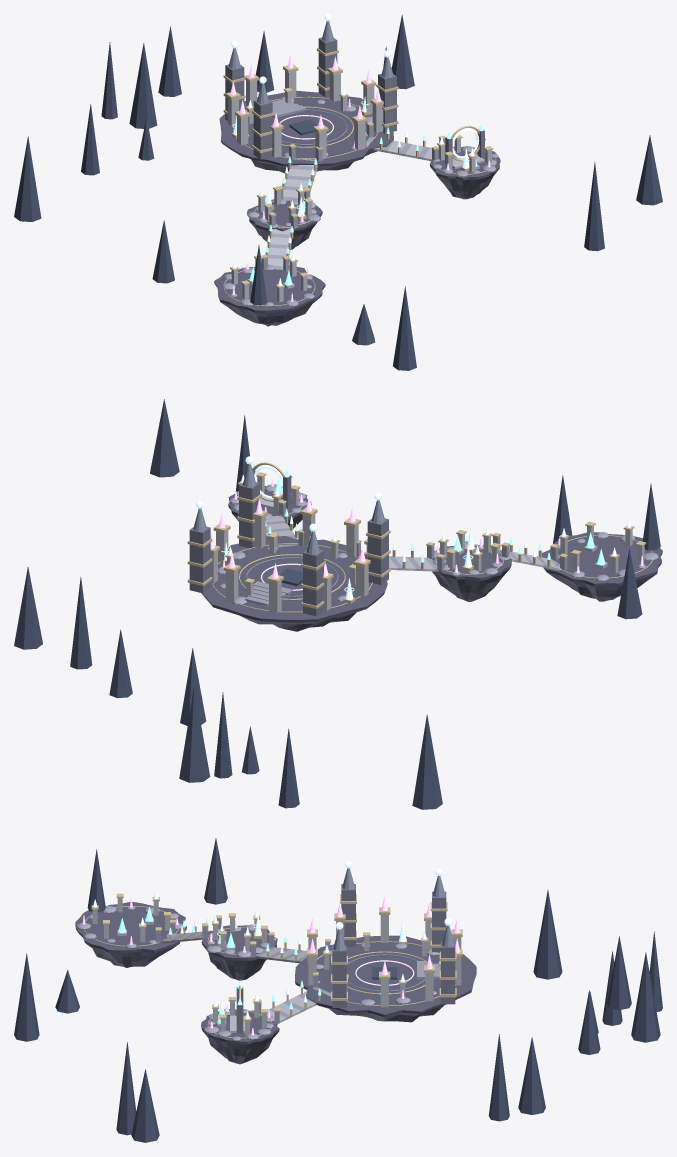
Rendered from StormCitadel_Enhanced_Yup_Mobile.glb.
The picture shows the model from 3 angles, top to bottom: view 1: azimuth 30°, elevation 25°; view 2: azimuth 150°, elevation 25°; view 3: azimuth 270°, elevation 25°; orthographic projection. The views are drawn at different scales.
Visible parts, largest first — view 1: WGA_Storm_StormCitadel_Enhanced_Yup_Mobile.glb_shadow, WGA_Storm_StormCitadel_Enhanced_Yup_Mobile.glb_basalt, WGA_Storm_StormCitadel_Enhanced_Yup_Mobile.glb_stone, WGA_Storm_StormCitadel_Enhanced_Yup_Mobile.glb_gold, WGA_Storm_StormCitadel_Enhanced_Yup_Mobile.glb_slate, WGA_Storm_StormCitadel_Enhanced_Yup_Mobile.glb_darkstone, WGA_Storm_StormCitadel_Enhanced_Yup_Mobile.glb_electric, WGA_Storm_StormCitadel_Enhanced_Yup_Mobile.glb_violet, WGA_Storm_StormCitadel_Enhanced_Yup_Mobile.glb_metal, WGA_Storm_StormCitadel_Enhanced_Yup_Mobile.glb_cyan; view 2: WGA_Storm_StormCitadel_Enhanced_Yup_Mobile.glb_shadow, WGA_Storm_StormCitadel_Enhanced_Yup_Mobile.glb_basalt, WGA_Storm_StormCitadel_Enhanced_Yup_Mobile.glb_stone, WGA_Storm_StormCitadel_Enhanced_Yup_Mobile.glb_darkstone, WGA_Storm_StormCitadel_Enhanced_Yup_Mobile.glb_gold, WGA_Storm_StormCitadel_Enhanced_Yup_Mobile.glb_slate, WGA_Storm_StormCitadel_Enhanced_Yup_Mobile.glb_electric, WGA_Storm_StormCitadel_Enhanced_Yup_Mobile.glb_metal, WGA_Storm_StormCitadel_Enhanced_Yup_Mobile.glb_violet, WGA_Storm_StormCitadel_Enhanced_Yup_Mobile.glb_cyan; view 3: WGA_Storm_StormCitadel_Enhanced_Yup_Mobile.glb_basalt, WGA_Storm_StormCitadel_Enhanced_Yup_Mobile.glb_shadow, WGA_Storm_StormCitadel_Enhanced_Yup_Mobile.glb_stone, WGA_Storm_StormCitadel_Enhanced_Yup_Mobile.glb_gold, WGA_Storm_StormCitadel_Enhanced_Yup_Mobile.glb_slate, WGA_Storm_StormCitadel_Enhanced_Yup_Mobile.glb_darkstone, WGA_Storm_StormCitadel_Enhanced_Yup_Mobile.glb_violet, WGA_Storm_StormCitadel_Enhanced_Yup_Mobile.glb_metal, WGA_Storm_StormCitadel_Enhanced_Yup_Mobile.glb_electric, WGA_Storm_StormCitadel_Enhanced_Yup_Mobile.glb_cyan.
Part boxes in pixels (x1=…): WGA_Storm_StormCitadel_Enhanced_Yup_Mobile.glb_shadow: x1=14, y1=14, x2=662, y2=370; WGA_Storm_StormCitadel_Enhanced_Yup_Mobile.glb_basalt: x1=214, y1=90, x2=500, y2=326; WGA_Storm_StormCitadel_Enhanced_Yup_Mobile.glb_stone: x1=227, y1=71, x2=491, y2=302; WGA_Storm_StormCitadel_Enhanced_Yup_Mobile.glb_gold: x1=223, y1=48, x2=496, y2=306; WGA_Storm_StormCitadel_Enhanced_Yup_Mobile.glb_slate: x1=222, y1=96, x2=498, y2=306; WGA_Storm_StormCitadel_Enhanced_Yup_Mobile.glb_darkstone: x1=225, y1=37, x2=484, y2=164; WGA_Storm_StormCitadel_Enhanced_Yup_Mobile.glb_electric: x1=231, y1=14, x2=479, y2=285; WGA_Storm_StormCitadel_Enhanced_Yup_Mobile.glb_violet: x1=230, y1=54, x2=490, y2=301; WGA_Storm_StormCitadel_Enhanced_Yup_Mobile.glb_metal: x1=228, y1=21, x2=393, y2=145; WGA_Storm_StormCitadel_Enhanced_Yup_Mobile.glb_cyan: x1=232, y1=101, x2=483, y2=285; WGA_Storm_StormCitadel_Enhanced_Yup_Mobile.glb_shadow: x1=14, y1=399, x2=660, y2=809; WGA_Storm_StormCitadel_Enhanced_Yup_Mobile.glb_basalt: x1=201, y1=486, x2=662, y2=631; WGA_Storm_StormCitadel_Enhanced_Yup_Mobile.glb_stone: x1=210, y1=476, x2=644, y2=613; WGA_Storm_StormCitadel_Enhanced_Yup_Mobile.glb_darkstone: x1=189, y1=466, x2=388, y2=616; WGA_Storm_StormCitadel_Enhanced_Yup_Mobile.glb_gold: x1=187, y1=462, x2=652, y2=612; WGA_Storm_StormCitadel_Enhanced_Yup_Mobile.glb_slate: x1=218, y1=484, x2=658, y2=606; WGA_Storm_StormCitadel_Enhanced_Yup_Mobile.glb_electric: x1=196, y1=456, x2=631, y2=600; WGA_Storm_StormCitadel_Enhanced_Yup_Mobile.glb_metal: x1=193, y1=464, x2=384, y2=597; WGA_Storm_StormCitadel_Enhanced_Yup_Mobile.glb_violet: x1=210, y1=479, x2=643, y2=590; WGA_Storm_StormCitadel_Enhanced_Yup_Mobile.glb_cyan: x1=221, y1=463, x2=605, y2=591; WGA_Storm_StormCitadel_Enhanced_Yup_Mobile.glb_basalt: x1=75, y1=902, x2=476, y2=1064; WGA_Storm_StormCitadel_Enhanced_Yup_Mobile.glb_shadow: x1=14, y1=838, x2=662, y2=1142; WGA_Storm_StormCitadel_Enhanced_Yup_Mobile.glb_stone: x1=92, y1=898, x2=461, y2=1035; WGA_Storm_StormCitadel_Enhanced_Yup_Mobile.glb_gold: x1=84, y1=893, x2=462, y2=1038; WGA_Storm_StormCitadel_Enhanced_Yup_Mobile.glb_slate: x1=76, y1=906, x2=461, y2=1040; WGA_Storm_StormCitadel_Enhanced_Yup_Mobile.glb_darkstone: x1=236, y1=884, x2=455, y2=1033; WGA_Storm_StormCitadel_Enhanced_Yup_Mobile.glb_violet: x1=82, y1=896, x2=460, y2=1035; WGA_Storm_StormCitadel_Enhanced_Yup_Mobile.glb_metal: x1=333, y1=868, x2=454, y2=991; WGA_Storm_StormCitadel_Enhanced_Yup_Mobile.glb_electric: x1=93, y1=861, x2=451, y2=1018; WGA_Storm_StormCitadel_Enhanced_Yup_Mobile.glb_cyan: x1=118, y1=906, x2=407, y2=1023.
Size of the model in its own units: 63.05 by 22.42 by 71.7.
